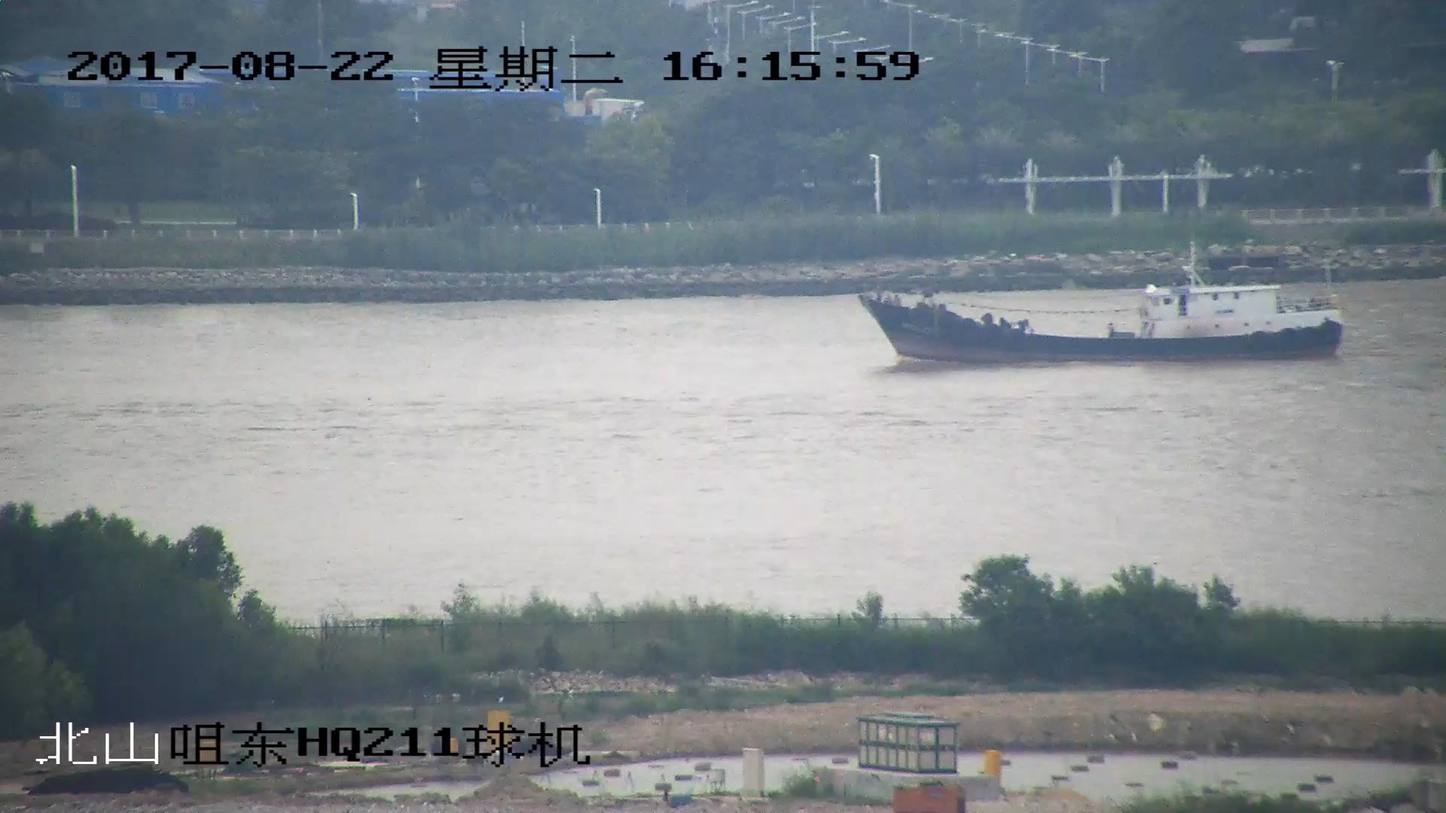fishing boat: (859, 239, 1344, 361)
